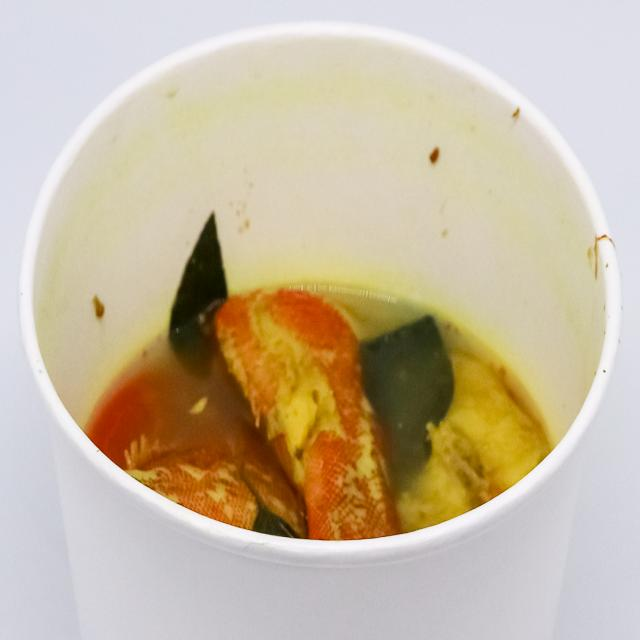Gulai-Ikan-Mas: (69, 189, 562, 562)
